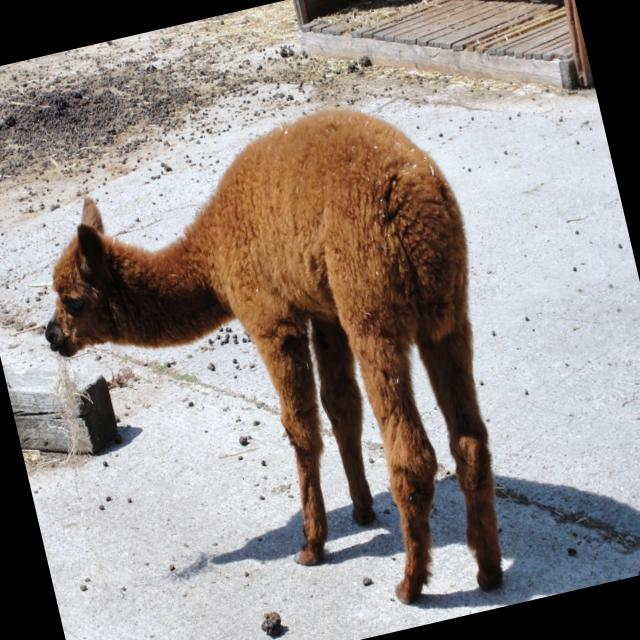alpaca: (11, 84, 543, 640)
